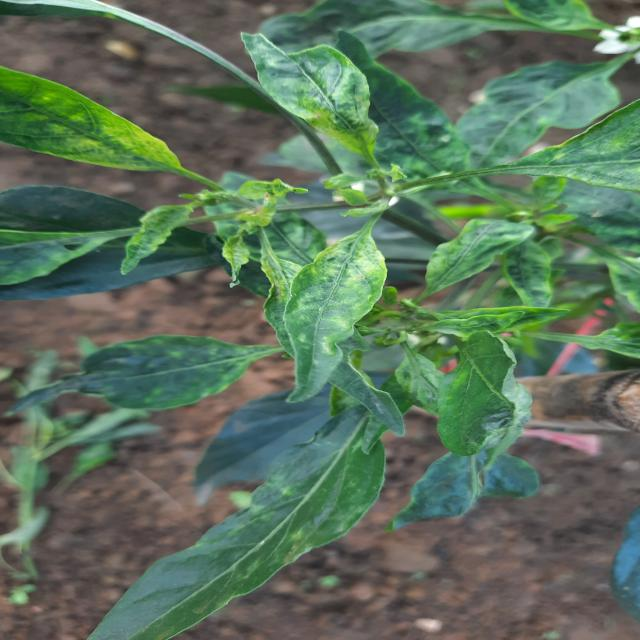thrips: (238, 229, 398, 408), (222, 23, 390, 158)
